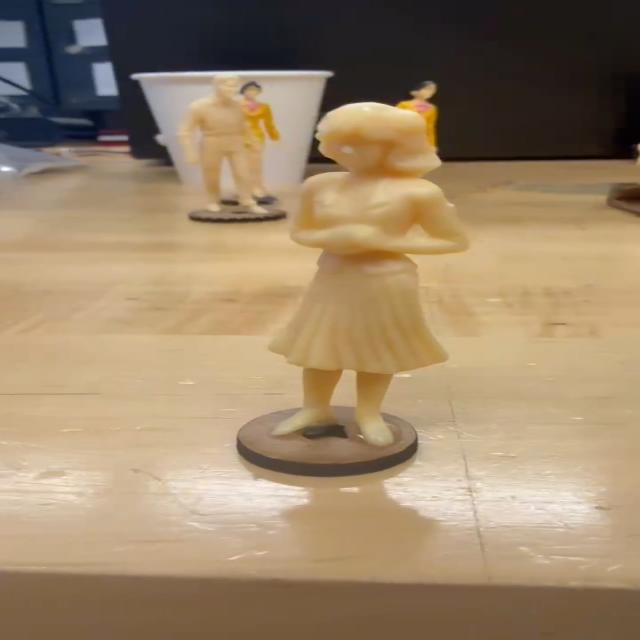Unauthorized: (238, 83, 484, 456)
